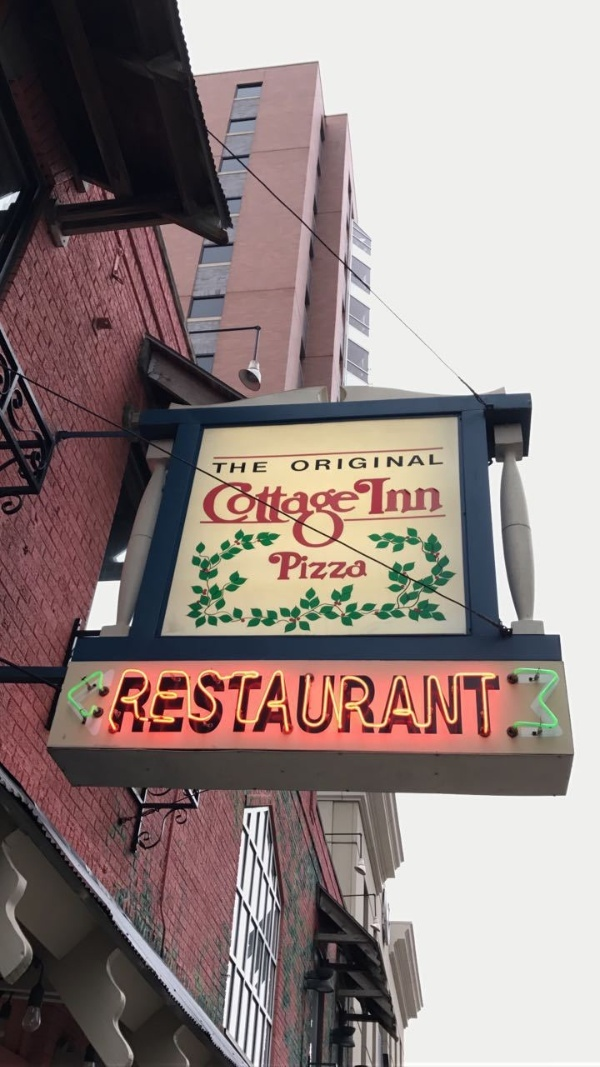text: (209, 476, 224, 551), (225, 476, 240, 551), (241, 476, 256, 551), (257, 476, 272, 551), (273, 476, 288, 551), (289, 476, 304, 551), (305, 476, 320, 551), (321, 476, 336, 551), (337, 476, 352, 551), (353, 476, 368, 551), (369, 476, 384, 551), (385, 476, 400, 551), (401, 476, 416, 551), (417, 476, 432, 551), (129, 669, 144, 737), (145, 669, 160, 737), (161, 669, 176, 737), (177, 669, 192, 737), (193, 669, 208, 737), (209, 669, 224, 737), (225, 669, 240, 737), (241, 669, 256, 737), (257, 669, 272, 737), (273, 669, 288, 737), (289, 669, 304, 737), (305, 669, 320, 737), (321, 669, 336, 737), (337, 669, 352, 737), (353, 669, 368, 737), (369, 669, 384, 737), (385, 669, 400, 737), (401, 669, 416, 737), (417, 669, 432, 737), (433, 669, 448, 737), (449, 669, 464, 737), (465, 669, 480, 737), (481, 669, 496, 737), (433, 476, 446, 551), (120, 669, 128, 737), (273, 552, 288, 582), (289, 552, 304, 582), (305, 552, 320, 582), (321, 552, 336, 582), (337, 552, 352, 582), (353, 552, 368, 582), (497, 669, 502, 737), (305, 454, 320, 472), (321, 454, 336, 472), (337, 454, 352, 472), (353, 454, 368, 472), (369, 454, 384, 472), (385, 454, 400, 472), (401, 454, 416, 472), (417, 454, 432, 472), (291, 454, 304, 472), (433, 454, 446, 472), (225, 461, 240, 474), (241, 461, 256, 474), (212, 461, 224, 474), (257, 461, 269, 474), (206, 476, 208, 551), (267, 552, 272, 582)
